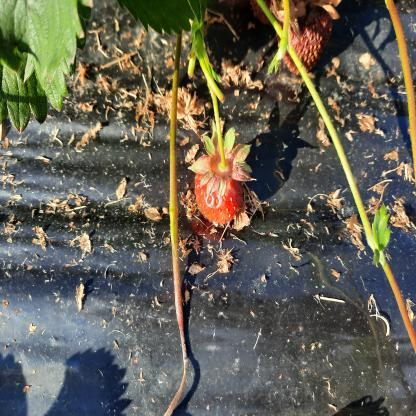ripe: (194, 158, 251, 221)
